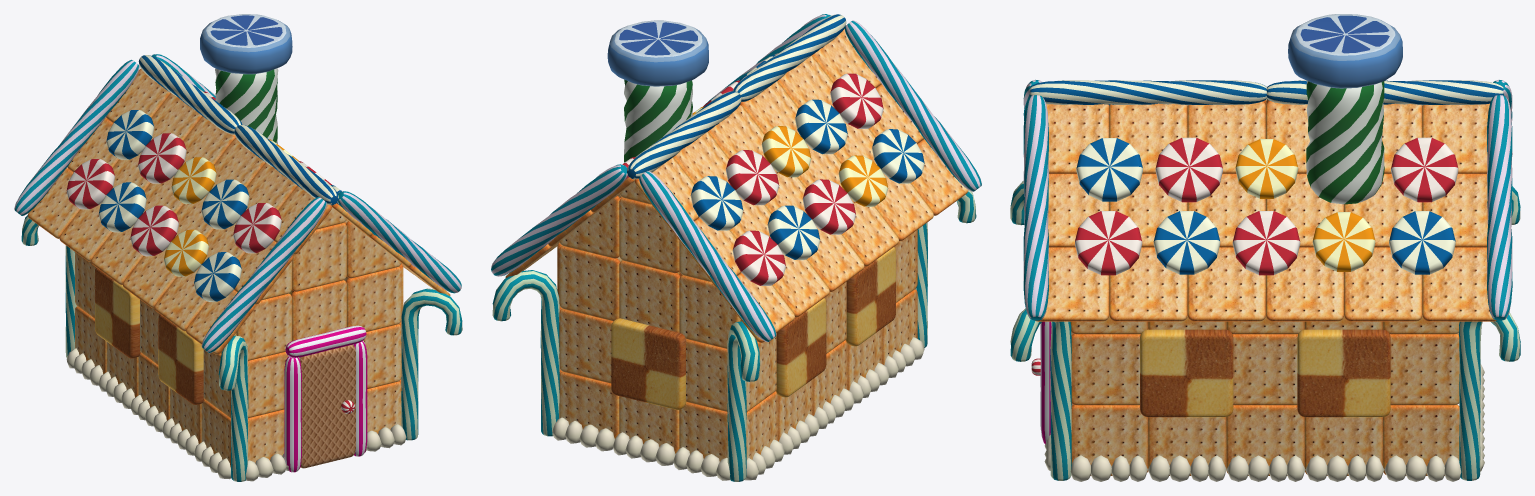
The model's file is cw_house_15.fbx.
3 views of the same model, side by side, from view 1: azimuth 30°, elevation 25°; view 2: azimuth 150°, elevation 25°; view 3: azimuth 270°, elevation 25° (orthographic). The views are drawn at different scales.
Visible parts, largest first — view 1: cw_house_15; view 2: cw_house_15; view 3: cw_house_15.
Part boxes in pixels (x1,y1,x2,y2): cw_house_15: [14, 14, 462, 481]; cw_house_15: [491, 14, 981, 481]; cw_house_15: [1010, 14, 1520, 481].
Bounding box in the file's own units: 509 × 637 × 704.
